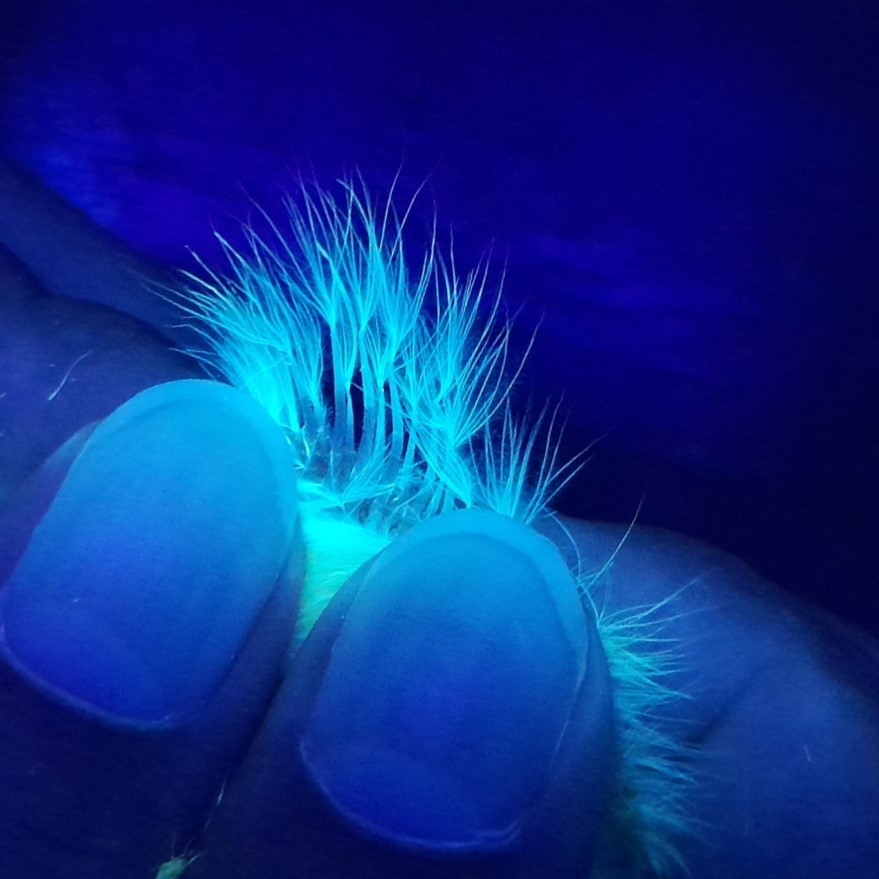male: (259, 293, 488, 541)
